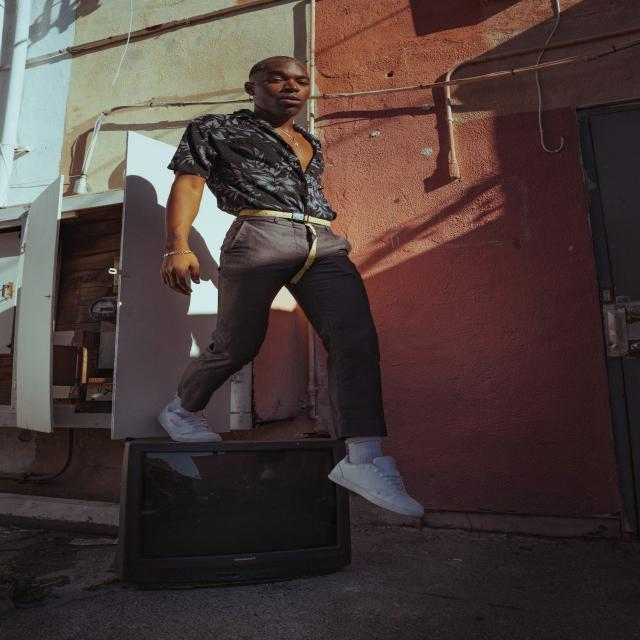adult: (154, 54, 428, 519)
